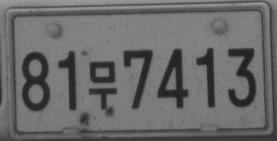1: (193, 46, 222, 108), (55, 50, 84, 110)
3: (226, 47, 256, 107)
4: (157, 47, 188, 108)
7: (123, 48, 153, 109)
8: (20, 51, 50, 112)
무: (88, 60, 117, 109)
